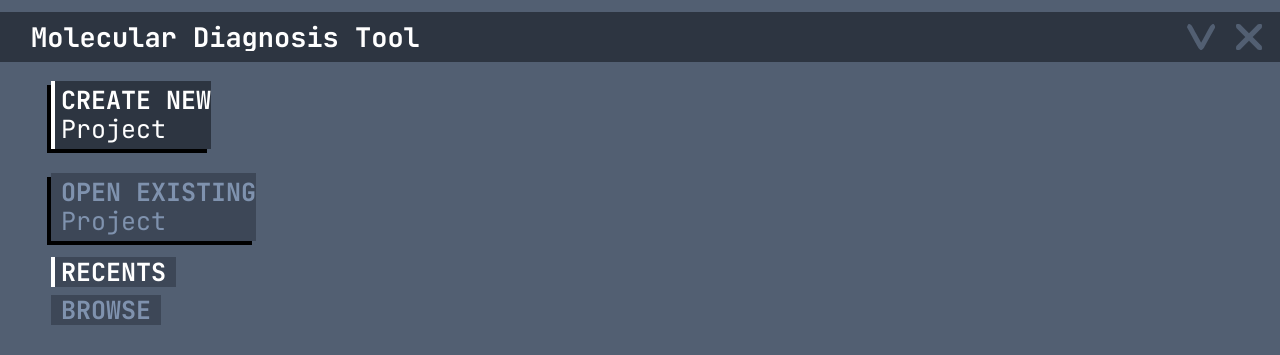
Scenario: one screen, before and after Create › keeps the chosen files on screen through Create, in the same table
Click the button "Create New Project" at [131, 115], box [51,81,211,149]
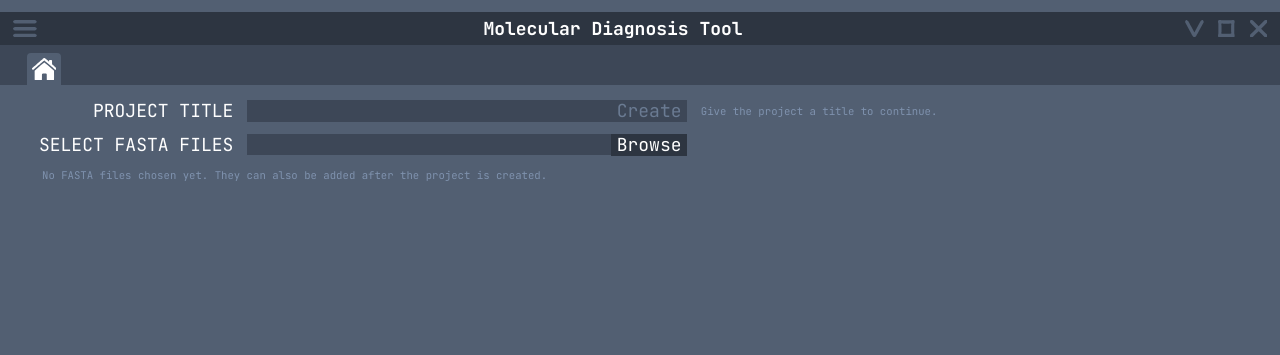
Click the button "Browse" at [649, 145], box [611,134,687,156]
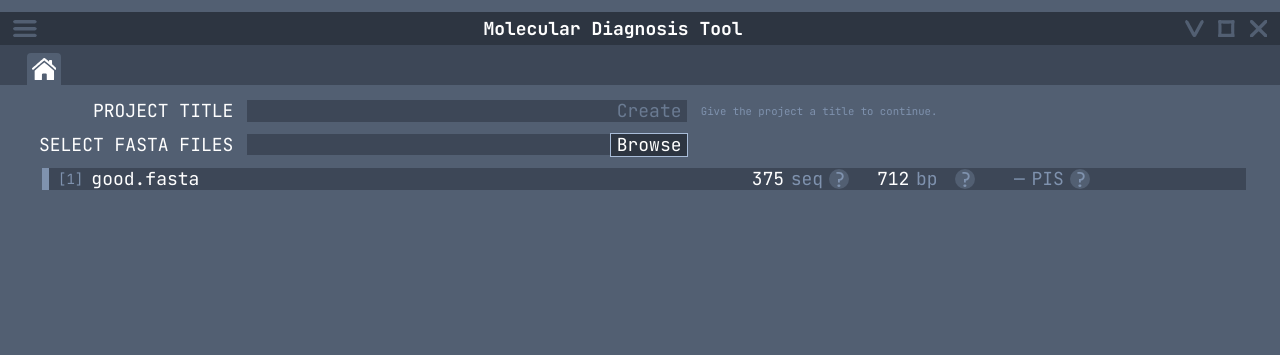
Type "European Leptacis" into the field labelled "PROJECT TITLE" at [429, 111], box [247,100,611,122]
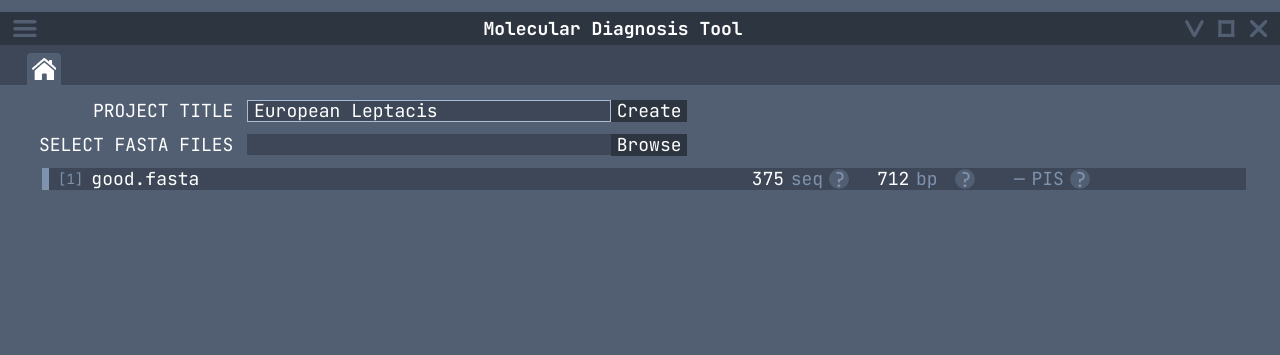
Click the button with aria-label "Create project" at [649, 111], box [611,100,687,122]
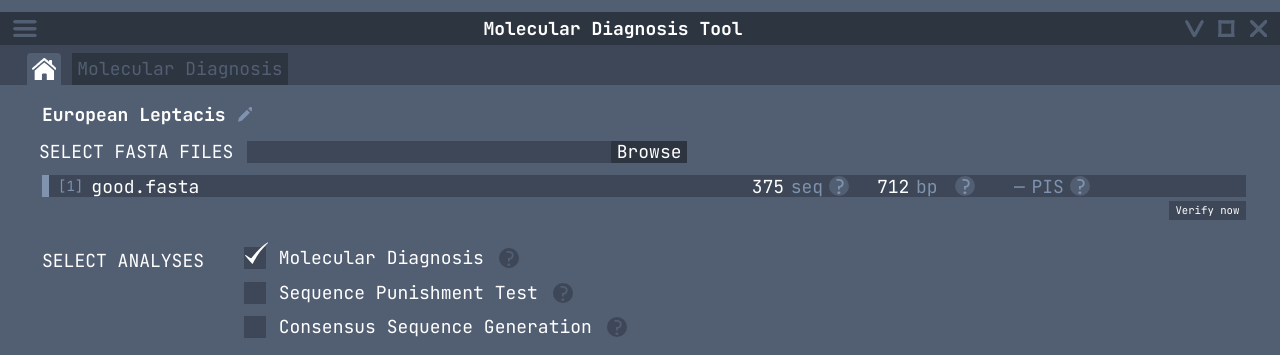
Expected: the heading "European Leptacis" is shown, [42,105,226,125]
Expected: the text "SELECT ANALYSES" is shown, [42,247,204,270]
